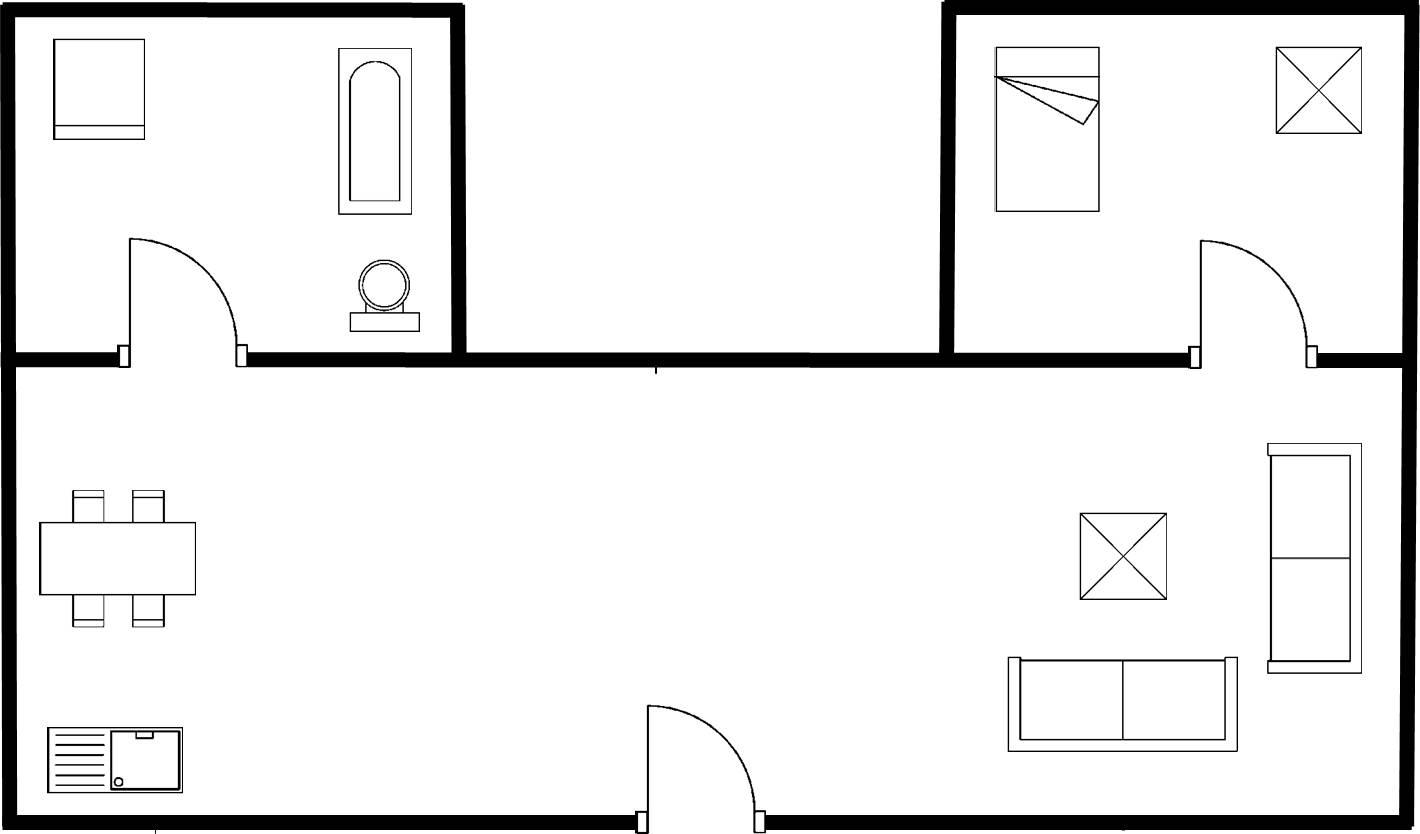bed: (984, 39, 1108, 218)
dining_table: (32, 484, 204, 632)
sink: (39, 719, 190, 798)
sofa: (1000, 648, 1244, 758), (1260, 436, 1367, 678)
toilet: (341, 253, 428, 338)
tub: (332, 39, 416, 221)
